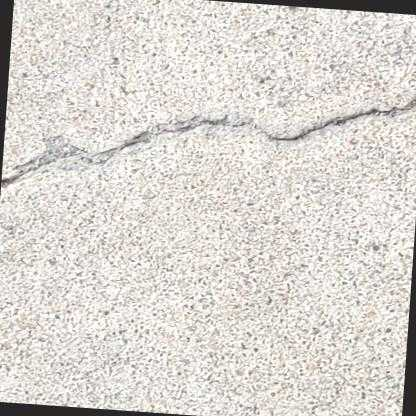crack: (0, 97, 416, 195)
